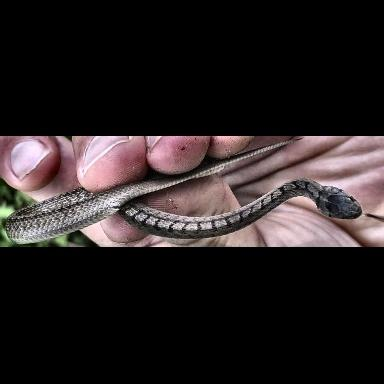snake: (4, 176, 365, 245)
